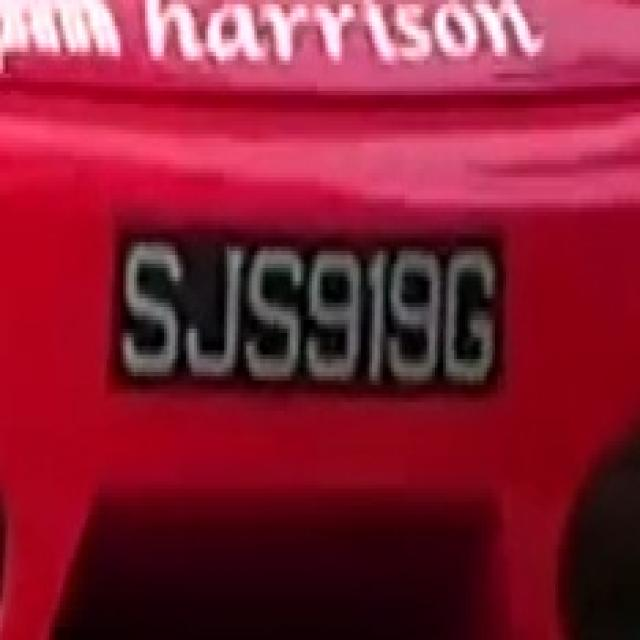1: (358, 233, 388, 398)
9: (301, 242, 361, 394), (388, 246, 443, 385)
G: (435, 238, 503, 411)
J: (180, 233, 249, 385)
S: (120, 216, 189, 389), (241, 229, 301, 394)
